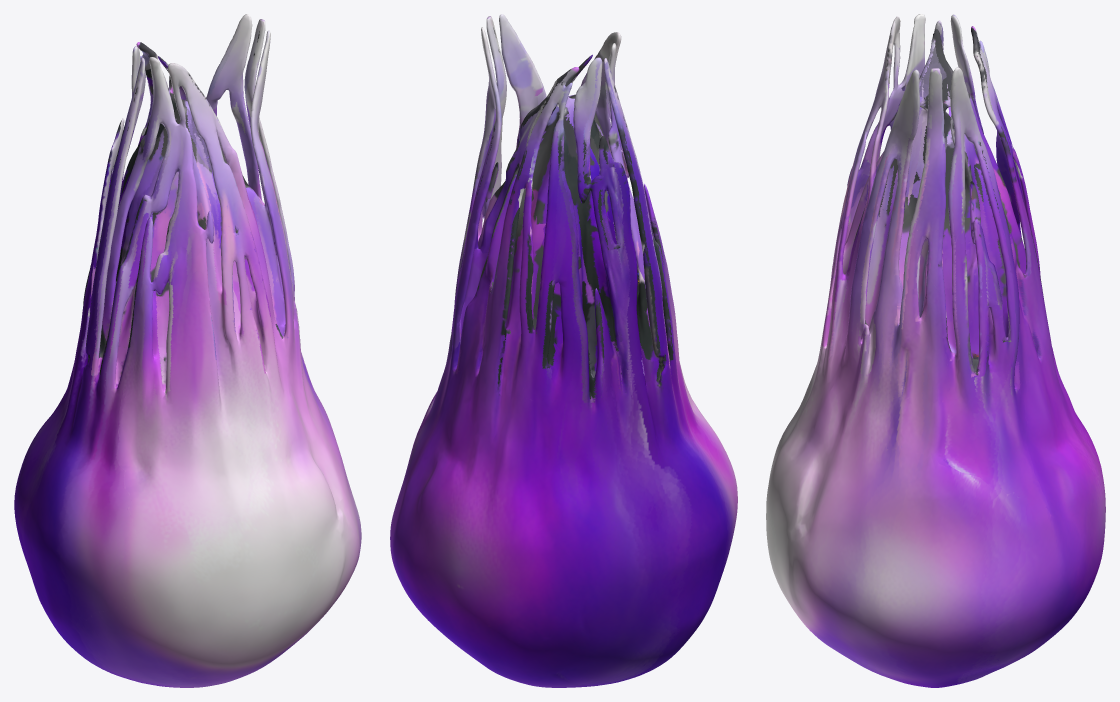
Rendered from Fireball.fbx.
3 renders of one model, left to right at view 1: azimuth 30°, elevation 25°; view 2: azimuth 150°, elevation 25°; view 3: azimuth 270°, elevation 25°, orthographic.
Visible parts, largest first — view 1: node_2aed5cd0_4d31_4424_9203_2f7d92de5960_mesh0; view 2: node_2aed5cd0_4d31_4424_9203_2f7d92de5960_mesh0; view 3: node_2aed5cd0_4d31_4424_9203_2f7d92de5960_mesh0.
Boxes of the visible parts, x1,y1,x2,y2 form: node_2aed5cd0_4d31_4424_9203_2f7d92de5960_mesh0: [14, 14, 361, 687]; node_2aed5cd0_4d31_4424_9203_2f7d92de5960_mesh0: [390, 14, 737, 687]; node_2aed5cd0_4d31_4424_9203_2f7d92de5960_mesh0: [766, 14, 1105, 687].
Size of the model in its own units: 49.29 by 99.61 by 47.96.
1 material, 1 textured.
